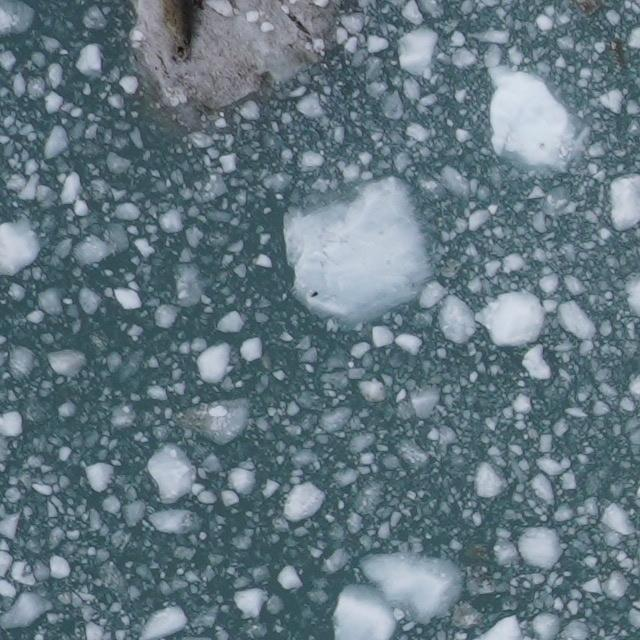seal: (158, 0, 199, 67)
